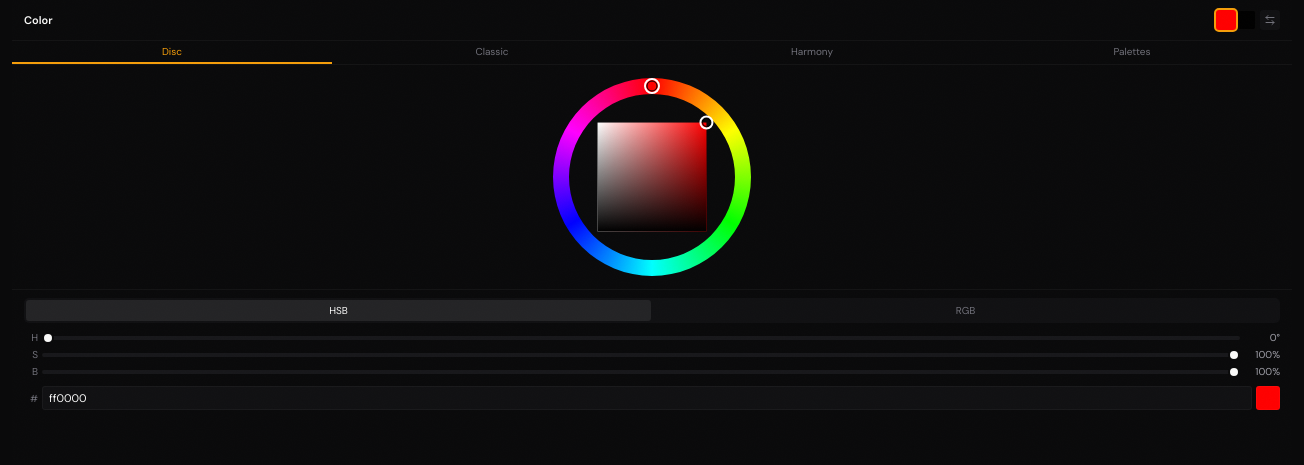
ColorPanel › switches to harmony tab
Click the button "Harmony".
click(812, 52)  # box [652,41,972,64]
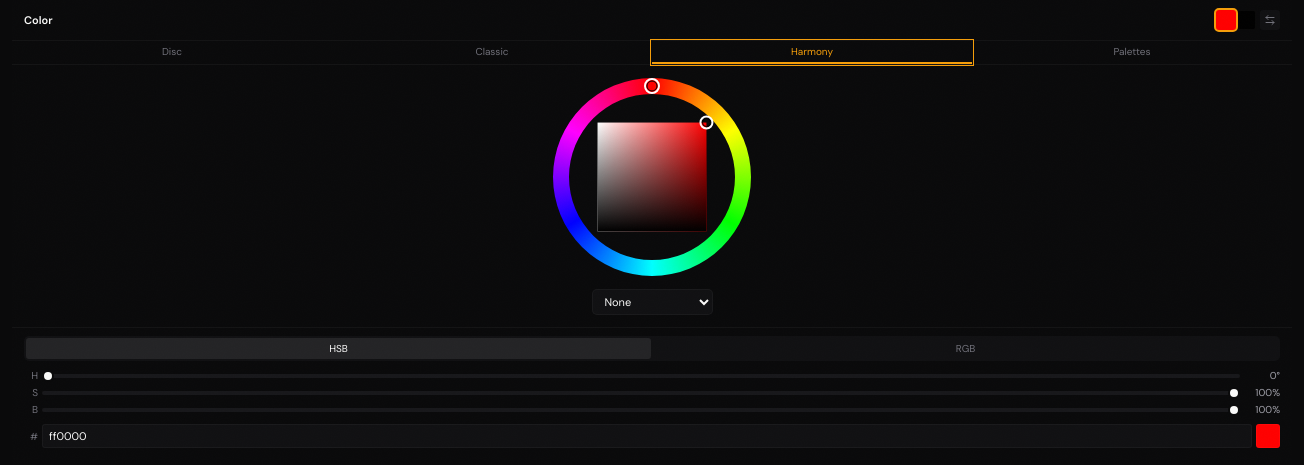
Expected: the dropdown named "Harmony mode" is shown, [592,289,712,315]
